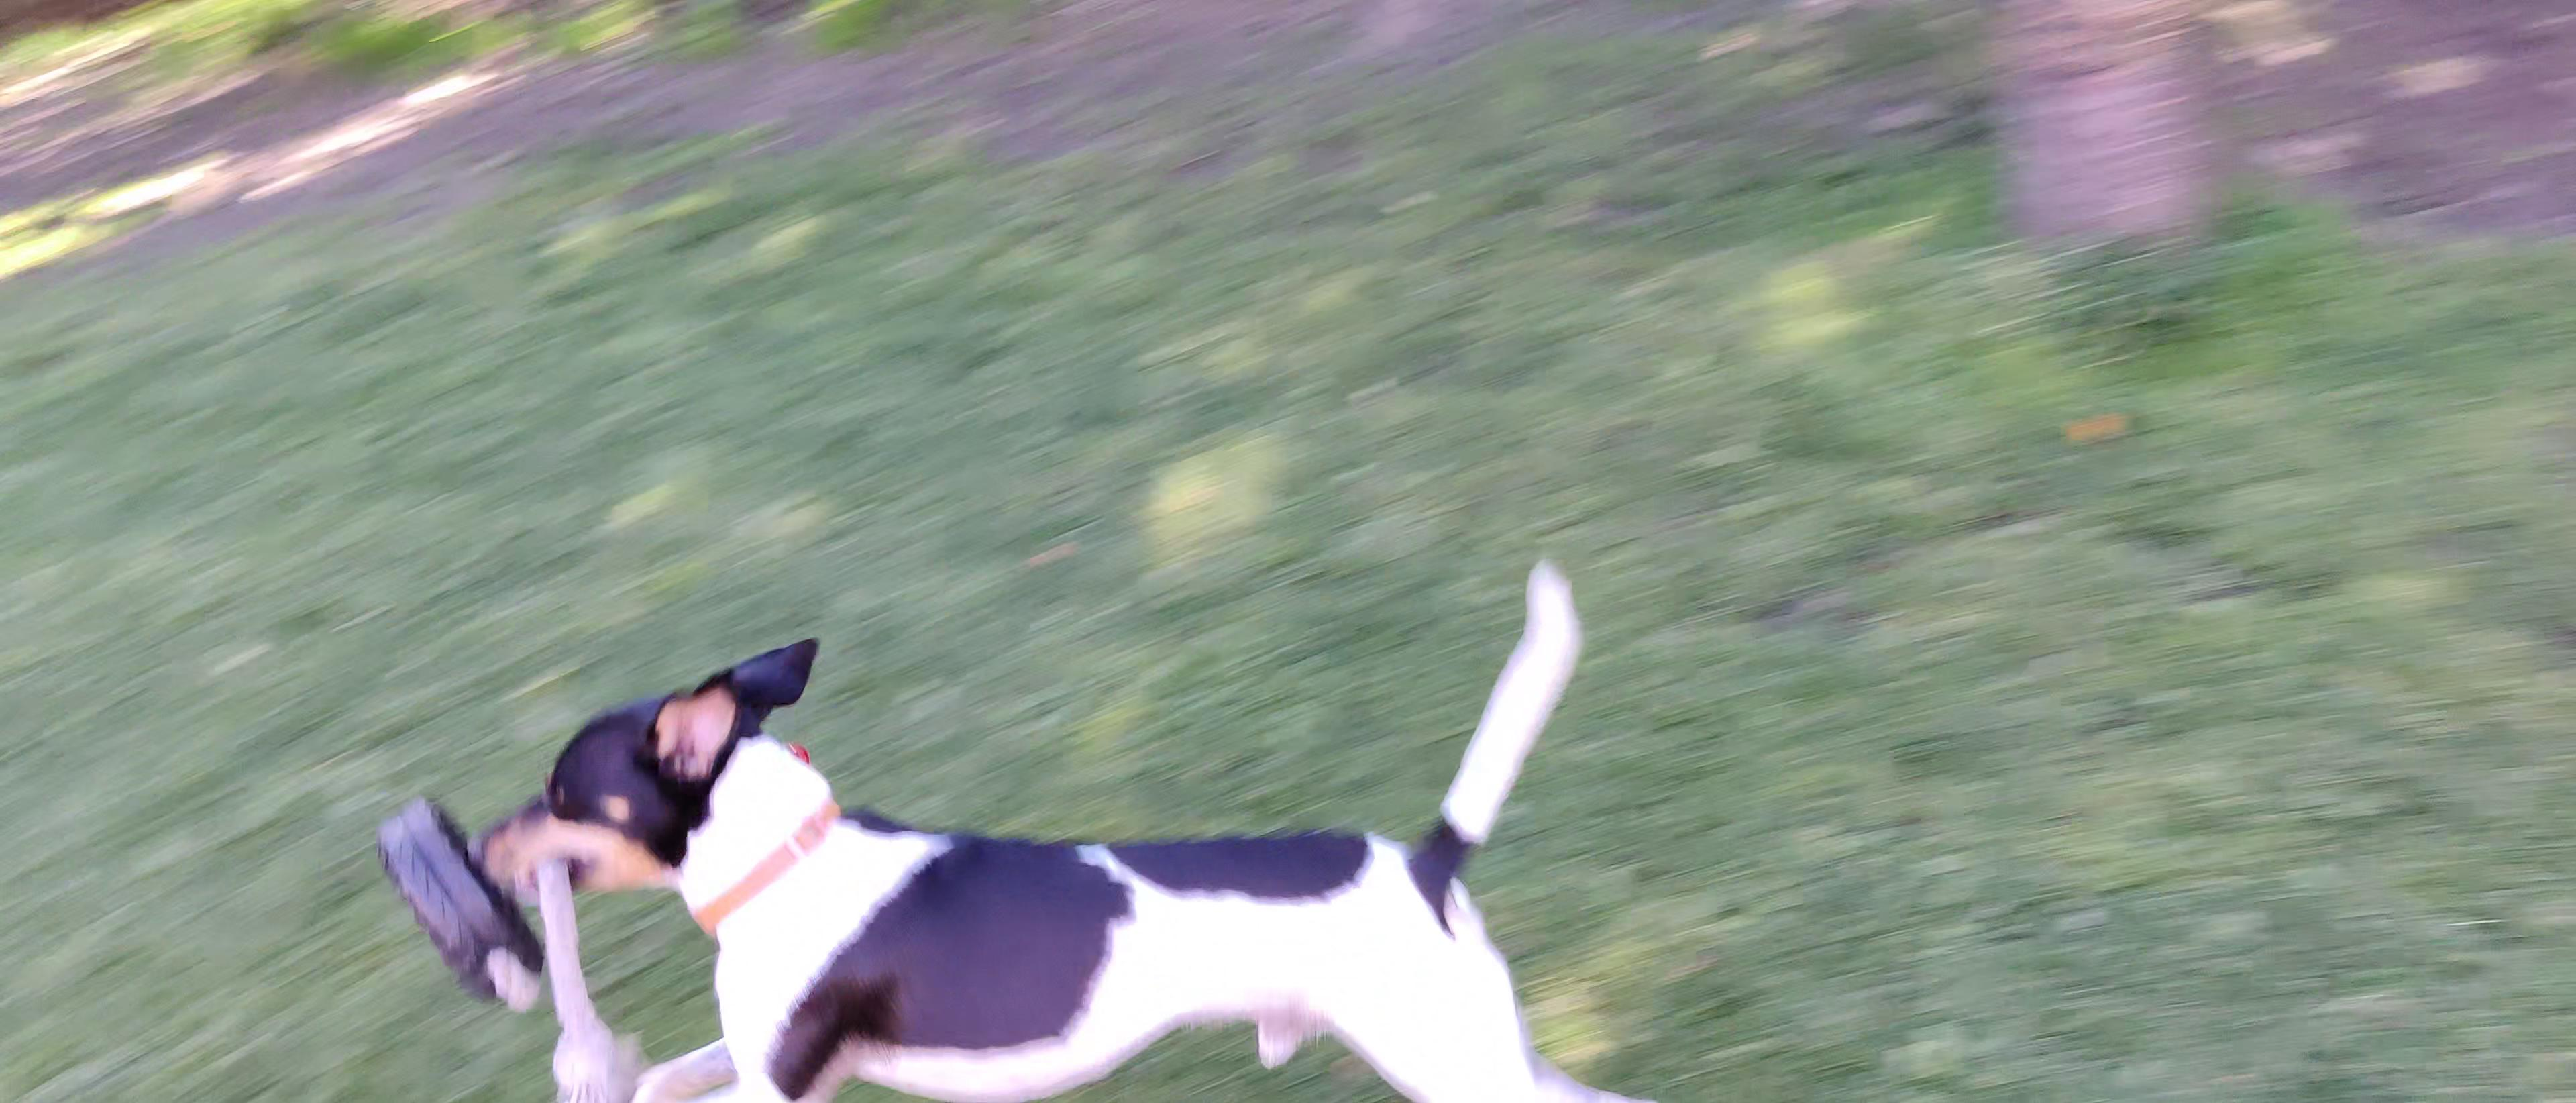Dog: (465, 539, 1690, 1103)
